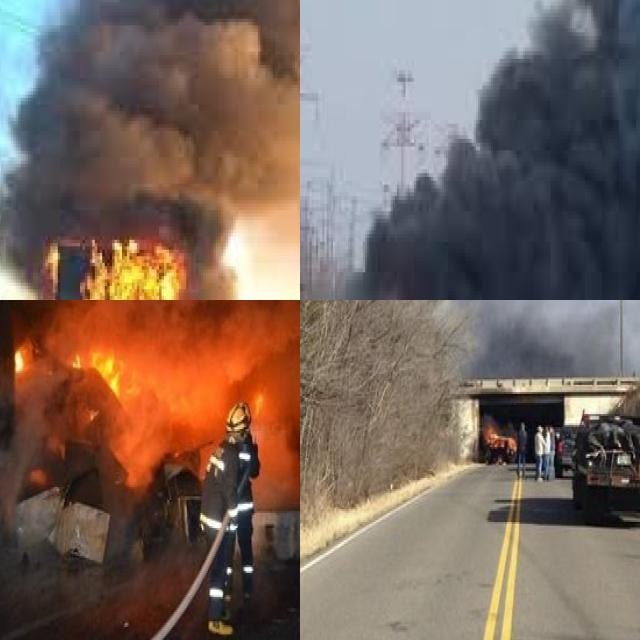fire: (43, 223, 216, 300), (10, 325, 134, 416)
smoke: (0, 0, 300, 300), (354, 0, 640, 300), (44, 300, 300, 503)
